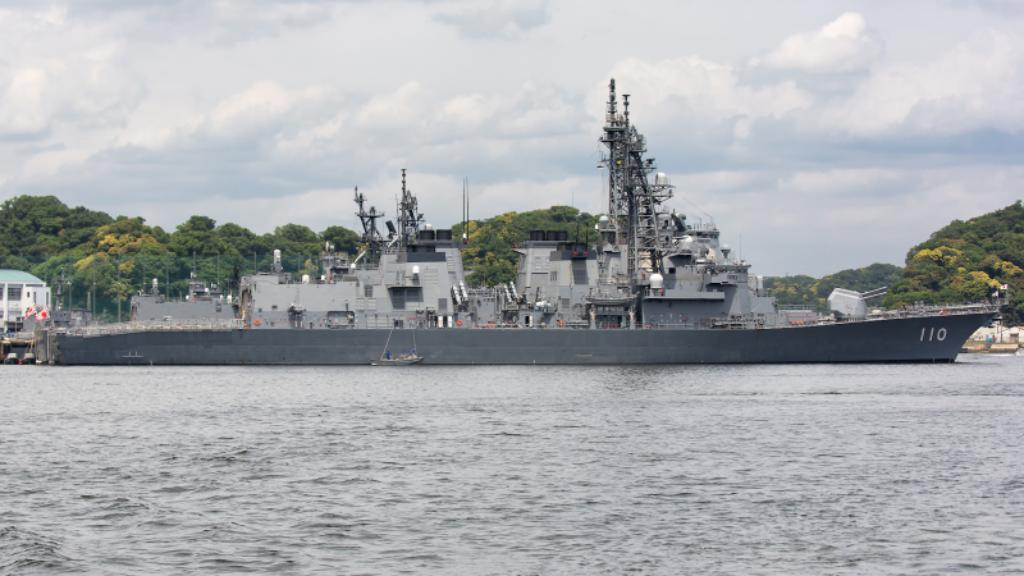Warship: (21, 73, 1005, 367)
